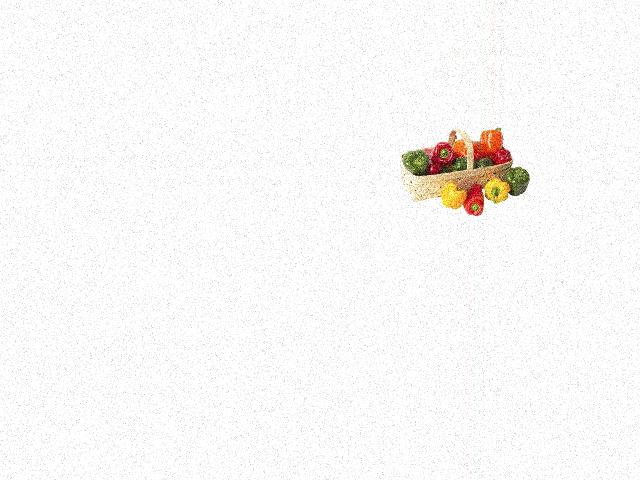bell_pepper: (403, 149, 431, 173)
